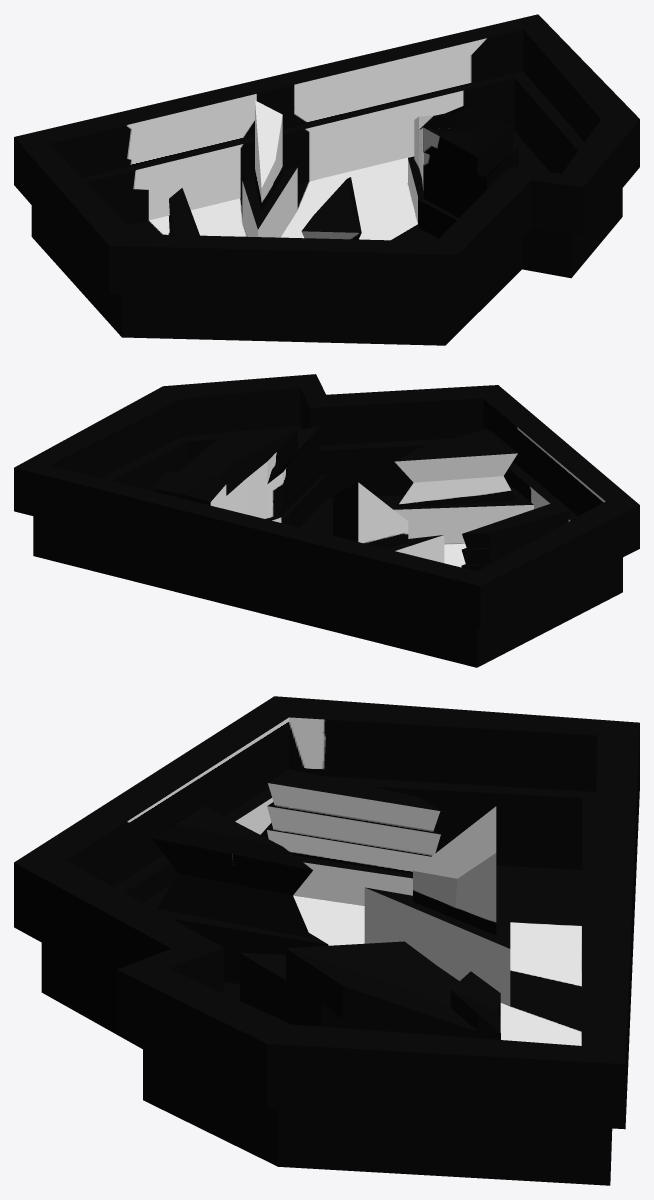
Rendered from level2_3.fbx.
The picture shows the model from 3 angles, top to bottom: view 1: azimuth 30°, elevation 25°; view 2: azimuth 150°, elevation 25°; view 3: azimuth 270°, elevation 25°; orthographic projection. The views are drawn at different scales.
Visible parts, largest first — view 1: 2-3_upper_wall, 2-3_lower_wall, 2-3_floor, 2-3_pillar_red_top, 2-3_pillar_magenta, 2-3_pillar_magenta_top, 2-3_pillar_pink_top, 2-3_pillar_red, 2-3_pillar_purple_top; view 2: 2-3_upper_wall, 2-3_lower_wall, 2-3_pillar_red_top, 2-3_pillar_pink_top, 2-3_pillar_purple_top, 2-3_pillar_pink, 2-3_pillar_magenta_top, 2-3_floor, 2-3_pillar_red, 2-3_pillar_magenta; view 3: 2-3_upper_wall, 2-3_lower_wall, 2-3_pillar_red_top, 2-3_floor, 2-3_pillar_pink_top, 2-3_pillar_purple_top, 2-3_pillar_magenta, 2-3_pillar_magenta_top, 2-3_pillar_pink, 2-3_pillar_purple.
Part boxes in pixels (x1,y1,x2,y2): 2-3_upper_wall: (14, 14, 639, 302); 2-3_lower_wall: (31, 71, 622, 345); 2-3_floor: (128, 131, 549, 241); 2-3_pillar_red_top: (414, 99, 518, 217); 2-3_pillar_magenta: (242, 167, 297, 237); 2-3_pillar_magenta_top: (255, 100, 282, 210); 2-3_pillar_pink_top: (301, 177, 361, 239); 2-3_pillar_red: (408, 156, 458, 238); 2-3_pillar_purple_top: (168, 188, 199, 235); 2-3_upper_wall: (14, 374, 639, 629); 2-3_lower_wall: (33, 425, 622, 667); 2-3_pillar_red_top: (154, 426, 319, 519); 2-3_pillar_pink_top: (394, 429, 517, 507); 2-3_pillar_purple_top: (461, 501, 570, 571); 2-3_pillar_pink: (391, 482, 533, 544); 2-3_pillar_magenta_top: (333, 482, 408, 548); 2-3_floor: (300, 495, 466, 567); 2-3_pillar_red: (266, 475, 325, 527); 2-3_pillar_magenta: (386, 535, 444, 562); 2-3_upper_wall: (14, 696, 639, 1129); 2-3_lower_wall: (41, 776, 612, 1185); 2-3_pillar_red_top: (240, 941, 500, 1039); 2-3_floor: (223, 865, 582, 1045); 2-3_pillar_pink_top: (151, 805, 312, 938); 2-3_pillar_purple_top: (267, 769, 440, 874); 2-3_pillar_magenta: (364, 887, 510, 1006); 2-3_pillar_magenta_top: (413, 806, 496, 935); 2-3_pillar_pink: (143, 884, 328, 983); 2-3_pillar_purple: (293, 856, 412, 905).
Size of the model in its own units: 22.98 by 5.07 by 16.52.
11 materials, 11 textured.
